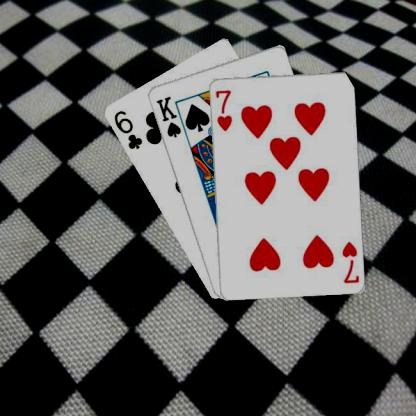6C: (111, 108, 143, 150)
7H: (338, 239, 360, 284), (212, 86, 233, 132)
KS: (153, 93, 182, 139)
